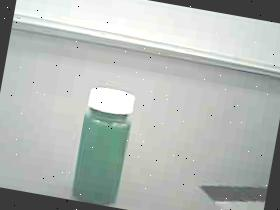Bottle C: (56, 72, 159, 210)
